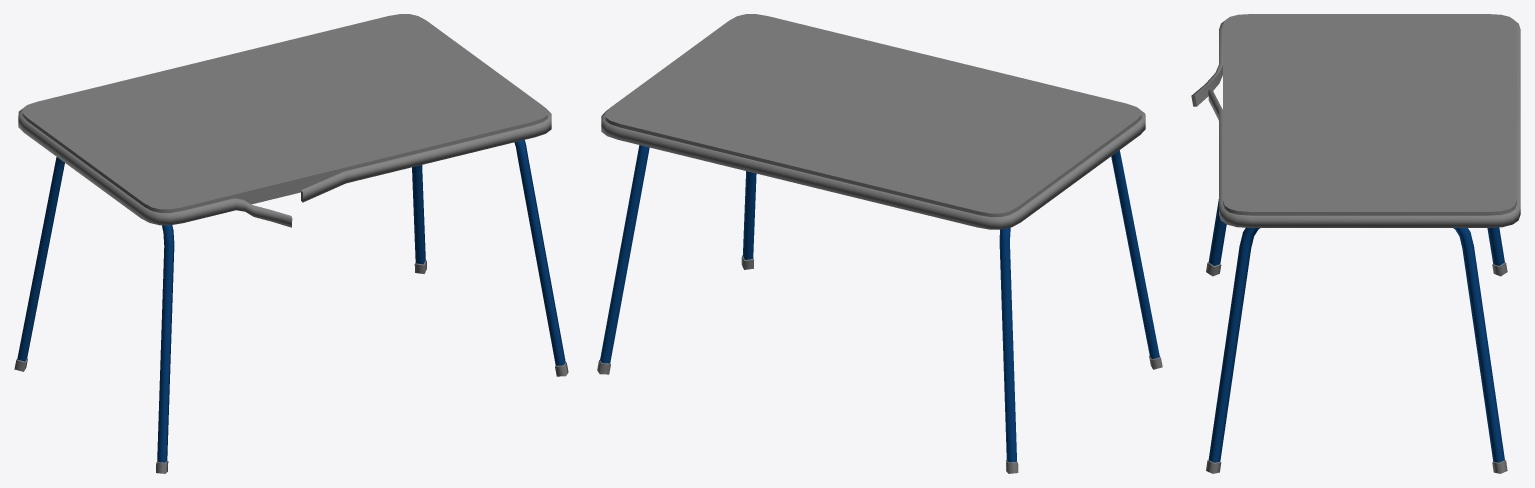
File: SquereTable_LP.fbx
3 views of the same model, side by side, from view 1: azimuth 30°, elevation 25°; view 2: azimuth 150°, elevation 25°; view 3: azimuth 270°, elevation 25° (orthographic). The views are drawn at different scales.
Visible parts, largest first — view 1: LP; view 2: LP; view 3: LP.
Boxes of the visible parts, x1,y1,x2,y2 form: LP: (14, 14, 568, 473); LP: (597, 14, 1162, 473); LP: (1191, 14, 1520, 473).
Size of the model in its own units: 122 by 82.97 by 72.32.
